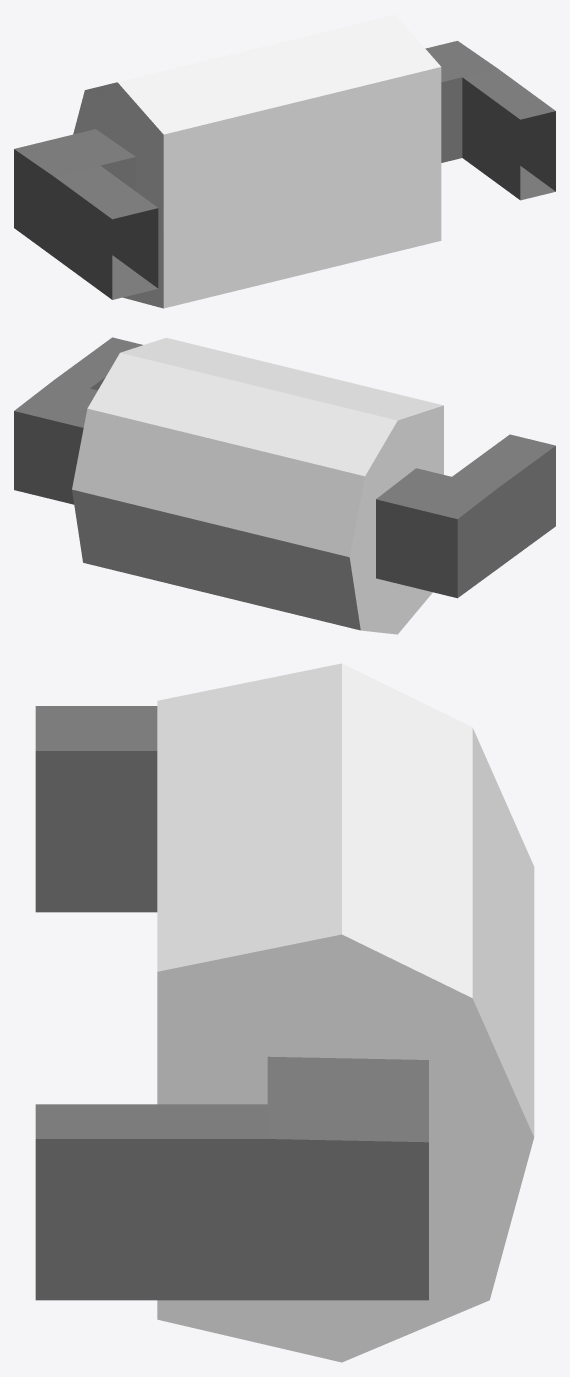
Rendered from wcpaperi.FBX.
3 views of the same model, one above another, from view 1: azimuth 30°, elevation 25°; view 2: azimuth 150°, elevation 25°; view 3: azimuth 270°, elevation 25° (orthographic). The views are drawn at different scales.
Parts seen in each view (by area): view 1: vessapaperi; view 2: vessapaperi; view 3: vessapaperi.
Part boxes in pixels (box(x1,y1,x2,y2)): vessapaperi: box(14, 14, 555, 308); vessapaperi: box(14, 337, 555, 634); vessapaperi: box(35, 663, 534, 1362).
Size of the model in its own units: 47.69 by 21.99 by 23.2.
